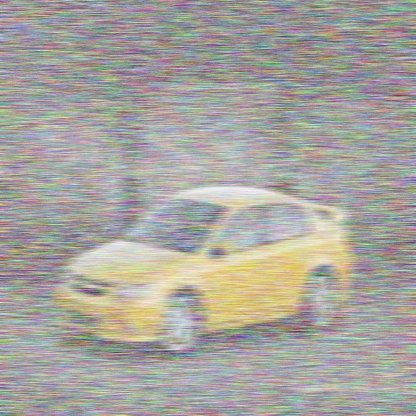Vehicle: (55, 186, 355, 360)
